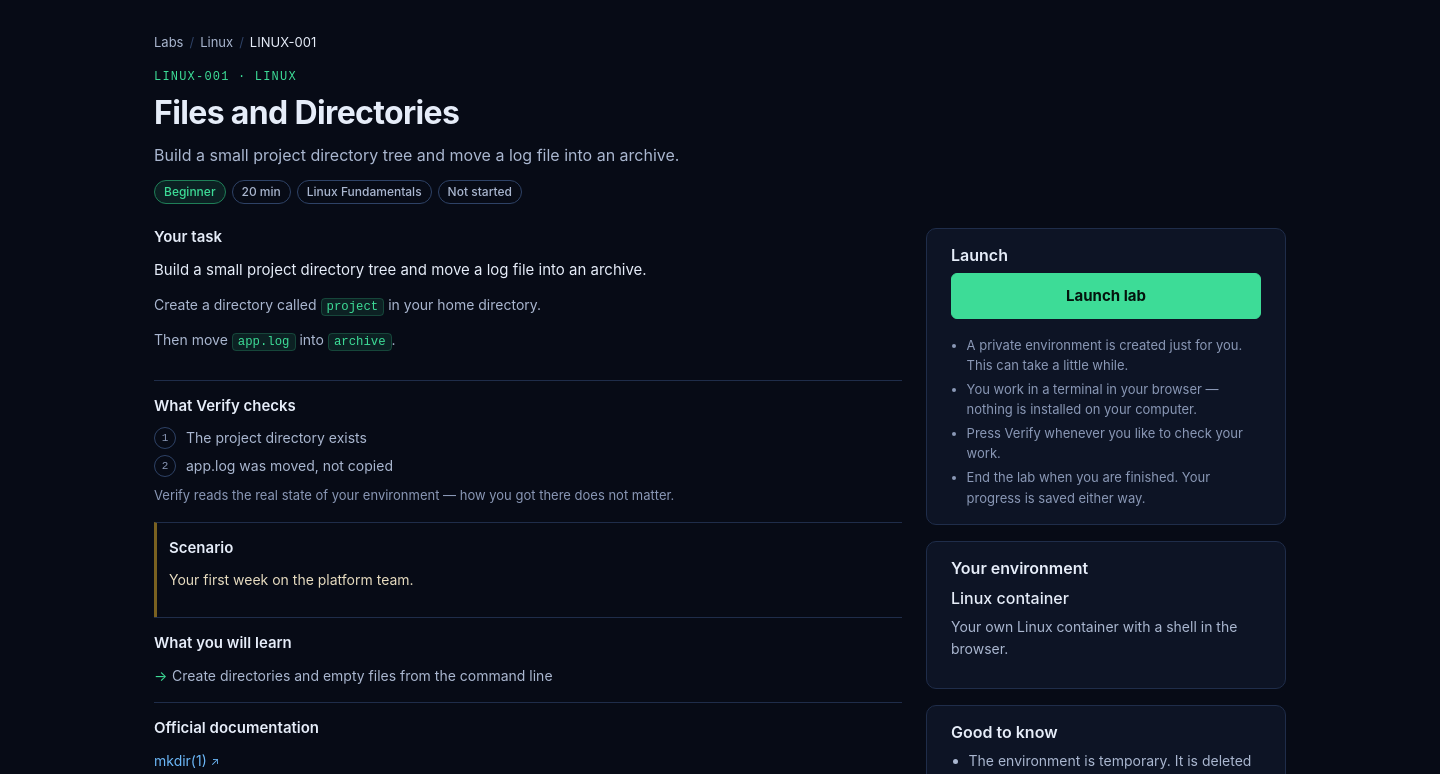
before launch › turns a per-student refusal it did not foresee into Continue, not a dead end
Expected: the heading "Files and Directories" is shown, 154,93 -> 459,132
Click the button "Launch lab" at (1106, 296), box 951,272 -> 1261,318
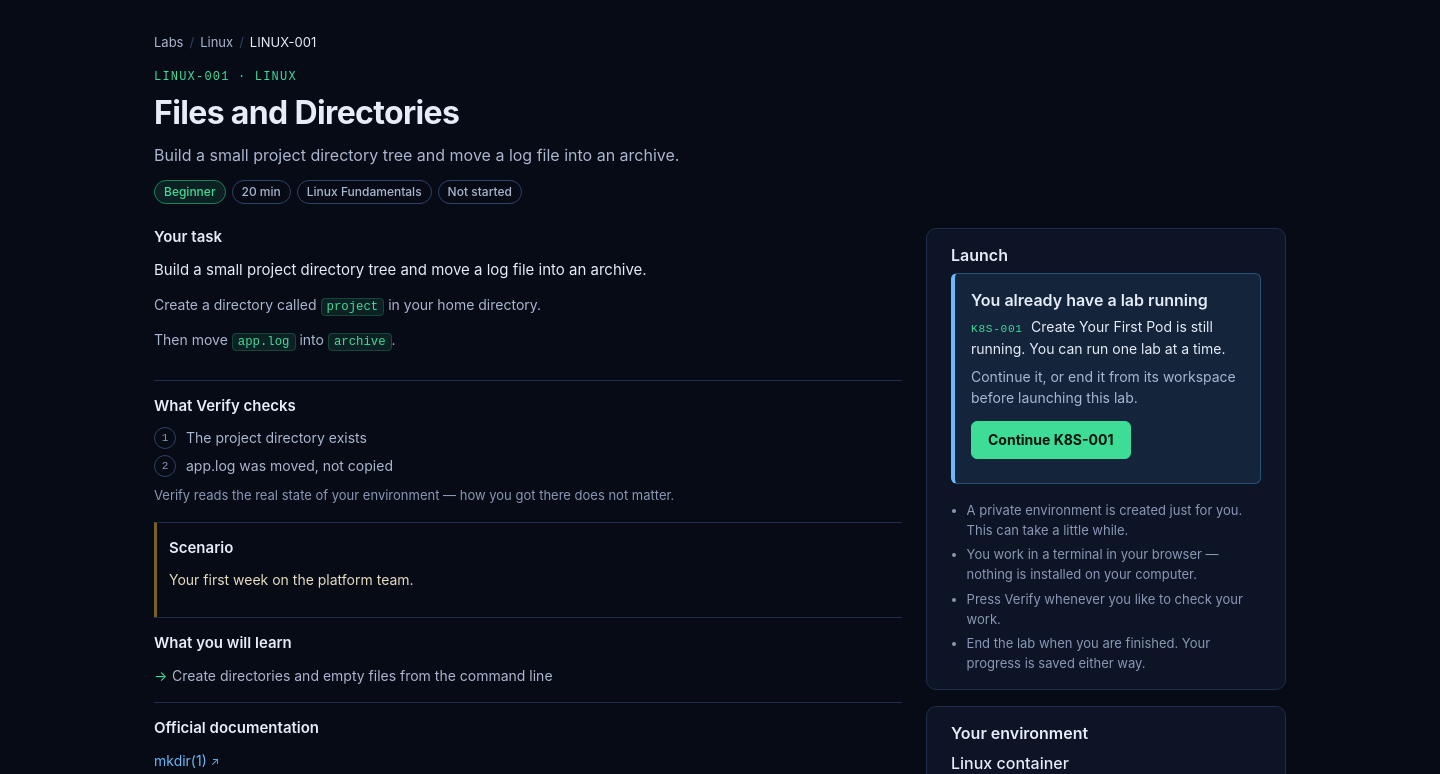
Result: the link "Continue K8S-001" is shown at 971,421 -> 1130,459
